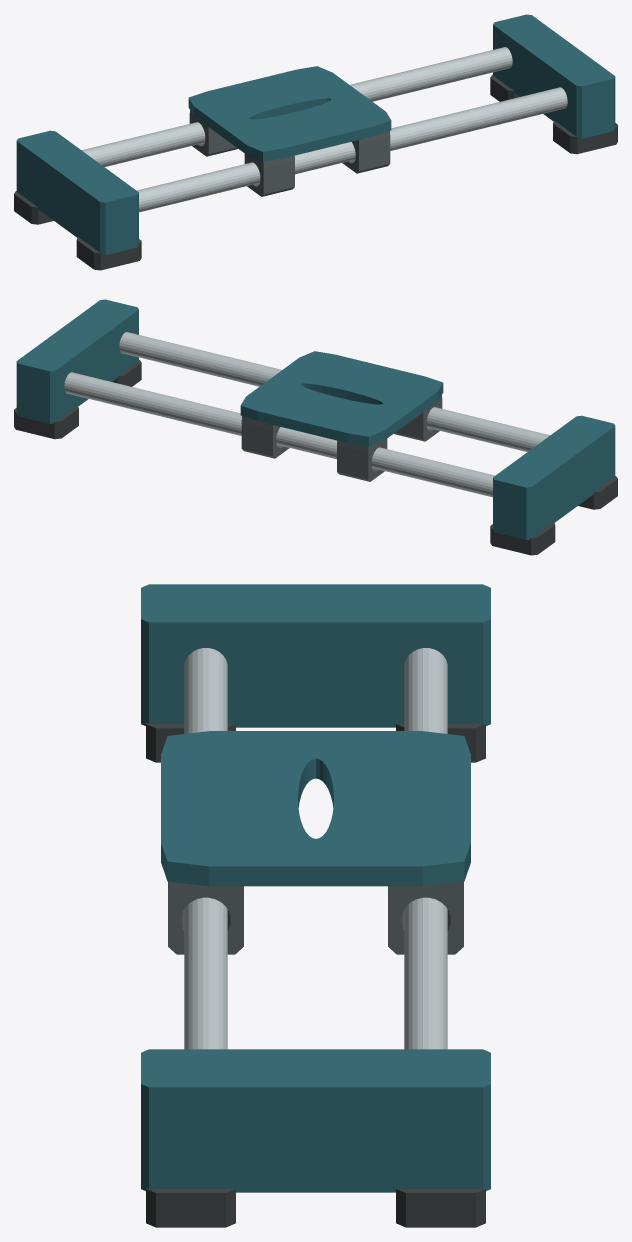
The picture shows the model from 3 angles, top to bottom: view 1: azimuth 30°, elevation 25°; view 2: azimuth 150°, elevation 25°; view 3: azimuth 270°, elevation 25°; orthographic projection. The views are drawn at different scales.
Visible parts, largest first — view 1: Platform_ChamferedEmptySlottedPlate, EndSupport_Stop_Left, EndSupport_Stop_Right, GuideRod_Front, GuideRod_Back, GuideSleeve_Front_Left, GuideSleeve_Front_Right, Foot_Left_Front, Foot_Right_Front, GuideSleeve_Back_Left, Foot_Left_Back, Foot_Right_Back; view 2: Platform_ChamferedEmptySlottedPlate, EndSupport_Stop_Left, EndSupport_Stop_Right, GuideRod_Back, GuideRod_Front, GuideSleeve_Back_Left, GuideSleeve_Back_Right, Foot_Left_Back, Foot_Right_Back, GuideSleeve_Front_Left, Foot_Left_Front, Foot_Right_Front; view 3: EndSupport_Stop_Right, Platform_ChamferedEmptySlottedPlate, EndSupport_Stop_Left, GuideRod_Back, GuideRod_Front, Foot_Right_Back, Foot_Right_Front, GuideSleeve_Back_Right, GuideSleeve_Front_Right, Foot_Left_Back, Foot_Left_Front.
Part boxes in pixels (x1,y1,x2,y2): Platform_ChamferedEmptySlottedPlate: (188,66,391,161); EndSupport_Stop_Left: (16,130,138,254); EndSupport_Stop_Right: (493,14,615,138); GuideRod_Front: (136,87,567,212); GuideRod_Back: (82,47,512,166); GuideSleeve_Front_Left: (244,154,294,196); GuideSleeve_Front_Right: (342,131,390,173); Foot_Left_Front: (76,237,141,270); Foot_Right_Front: (553,121,617,154); GuideSleeve_Back_Left: (189,110,237,156); Foot_Left_Back: (14,191,53,224); Foot_Right_Back: (490,74,519,101); Platform_ChamferedEmptySlottedPlate: (240,351,443,446); EndSupport_Stop_Left: (493,415,615,539); EndSupport_Stop_Right: (16,299,138,423); GuideRod_Back: (64,372,495,497); GuideRod_Front: (119,332,549,451); GuideSleeve_Back_Left: (337,439,387,481); GuideSleeve_Back_Right: (241,416,289,458); Foot_Left_Back: (490,522,555,555); Foot_Right_Back: (14,406,78,439); GuideSleeve_Front_Left: (394,395,442,441); Foot_Left_Front: (578,476,617,509); Foot_Right_Front: (112,359,141,386); EndSupport_Stop_Right: (141,1049,490,1192); Platform_ChamferedEmptySlottedPlate: (161,731,470,886); EndSupport_Stop_Left: (141,584,490,727); GuideRod_Back: (404,648,447,1049); GuideRod_Front: (184,648,227,1049); Foot_Right_Back: (396,1188,485,1227); Foot_Right_Front: (146,1188,235,1227); GuideSleeve_Back_Right: (388,881,463,954); GuideSleeve_Front_Right: (168,881,243,954); Foot_Left_Back: (396,723,485,762); Foot_Left_Front: (146,723,235,762).
Size of the model in its own units: 1.21 by 0.163 by 0.35.
